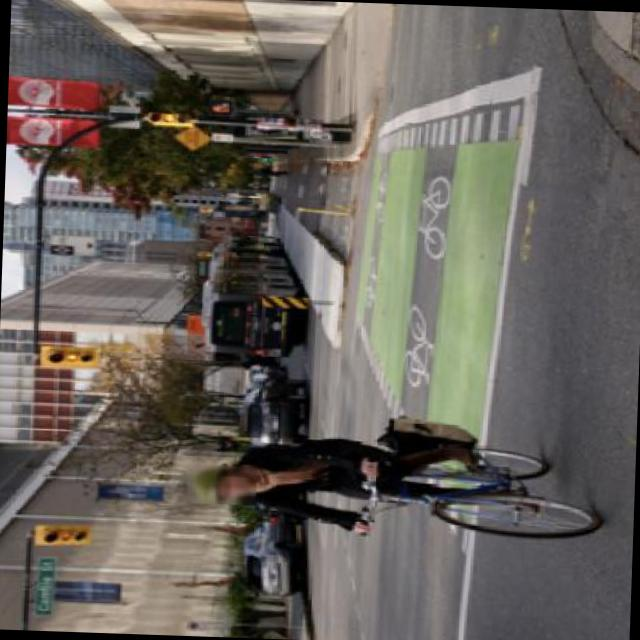With Helmet: (186, 460, 258, 502)
